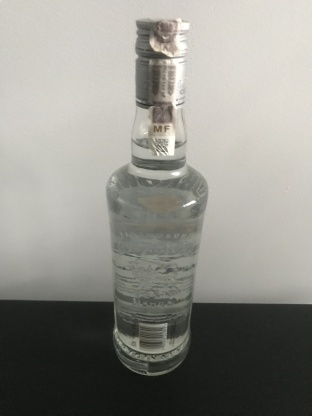nakretka: (133, 16, 191, 110)
